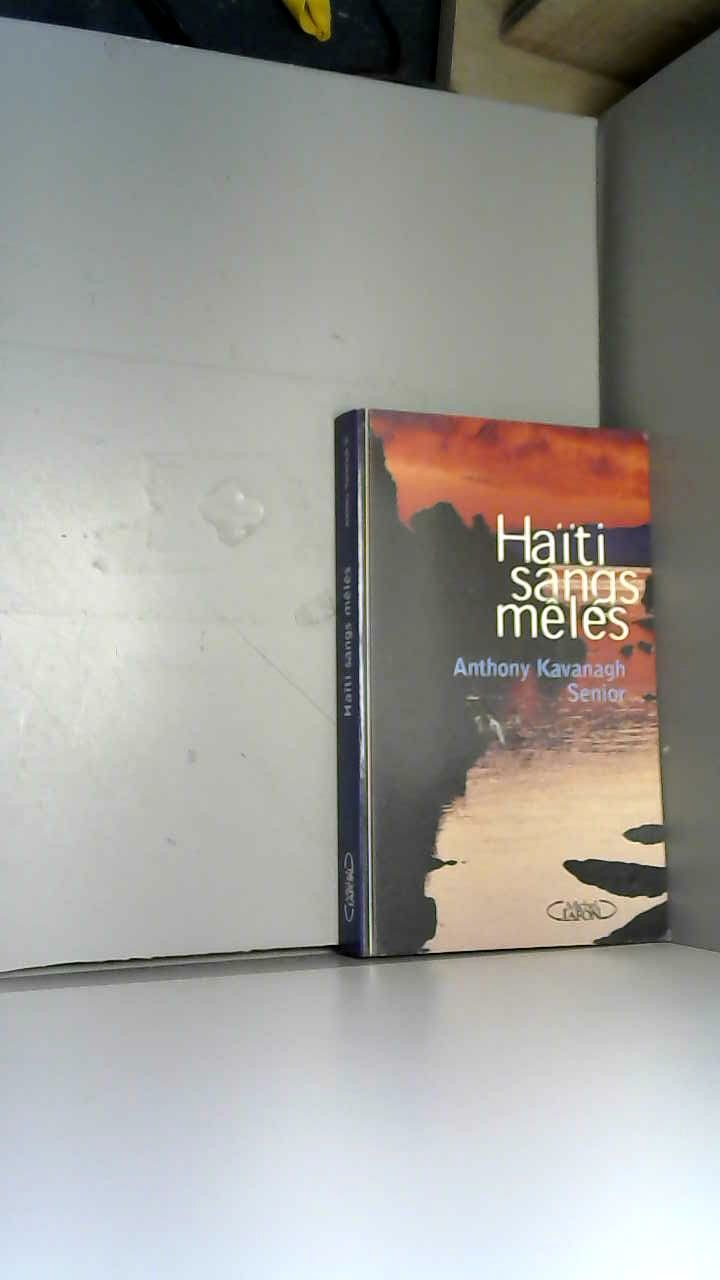book: (301, 369, 720, 990)
